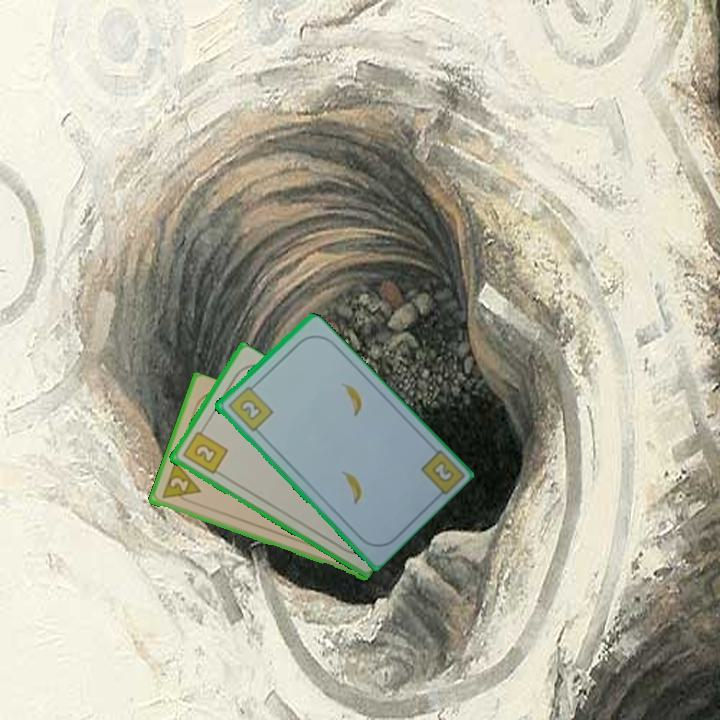2b: (416, 446, 465, 503), (224, 380, 275, 434), (179, 424, 230, 477)
2p: (158, 460, 203, 506)
